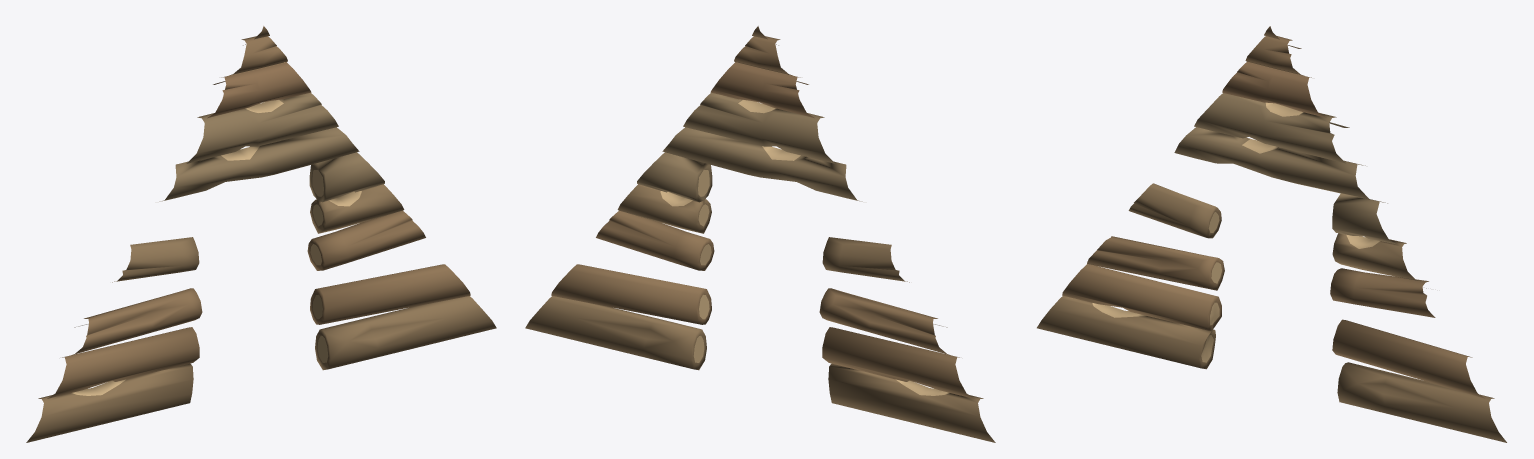
Rendered from rpgpp_av_roof_end_01_6x5_wall_door_03a.gltf.
3 views of the same model, side by side, from view 1: azimuth 30°, elevation 25°; view 2: azimuth 150°, elevation 25°; view 3: azimuth 330°, elevation 25° (orthographic).
Visible parts, largest first — view 1: rpgpp_av_roof_end_01_6x5_wall_door_03a; view 2: rpgpp_av_roof_end_01_6x5_wall_door_03a; view 3: rpgpp_av_roof_end_01_6x5_wall_door_03a.
Part boxes in pixels (left/top/right/bottom): rpgpp_av_roof_end_01_6x5_wall_door_03a: left=26, top=26, right=496, bottom=442; rpgpp_av_roof_end_01_6x5_wall_door_03a: left=525, top=26, right=995, bottom=442; rpgpp_av_roof_end_01_6x5_wall_door_03a: left=1037, top=26, right=1506, bottom=442.
Bounding box in the file's own units: 0.0662 × 0.0486 × 0.00514.
1 material, 1 textured.
